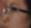without_mask: (1, 1, 31, 28)
